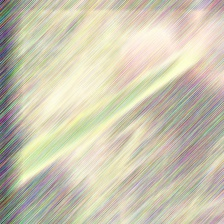Bacterial_Leaf_Blight: (83, 101, 110, 113), (118, 82, 132, 94), (59, 119, 70, 128)
